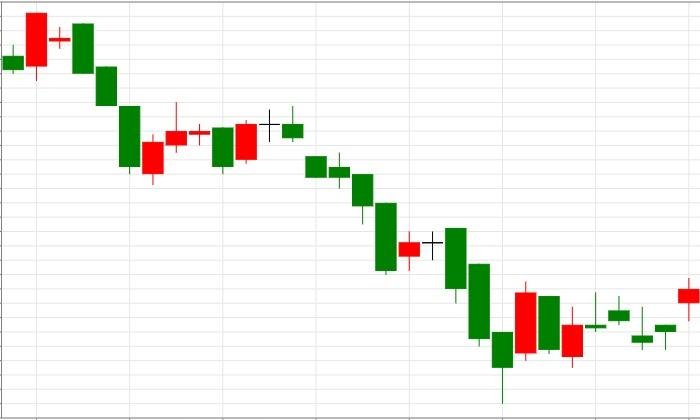evening_star_fall: (141, 101, 304, 186)
